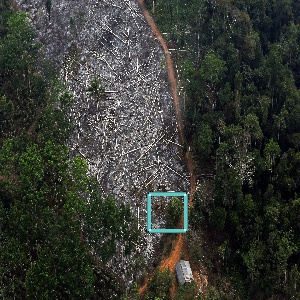square: (146, 191, 189, 234)
